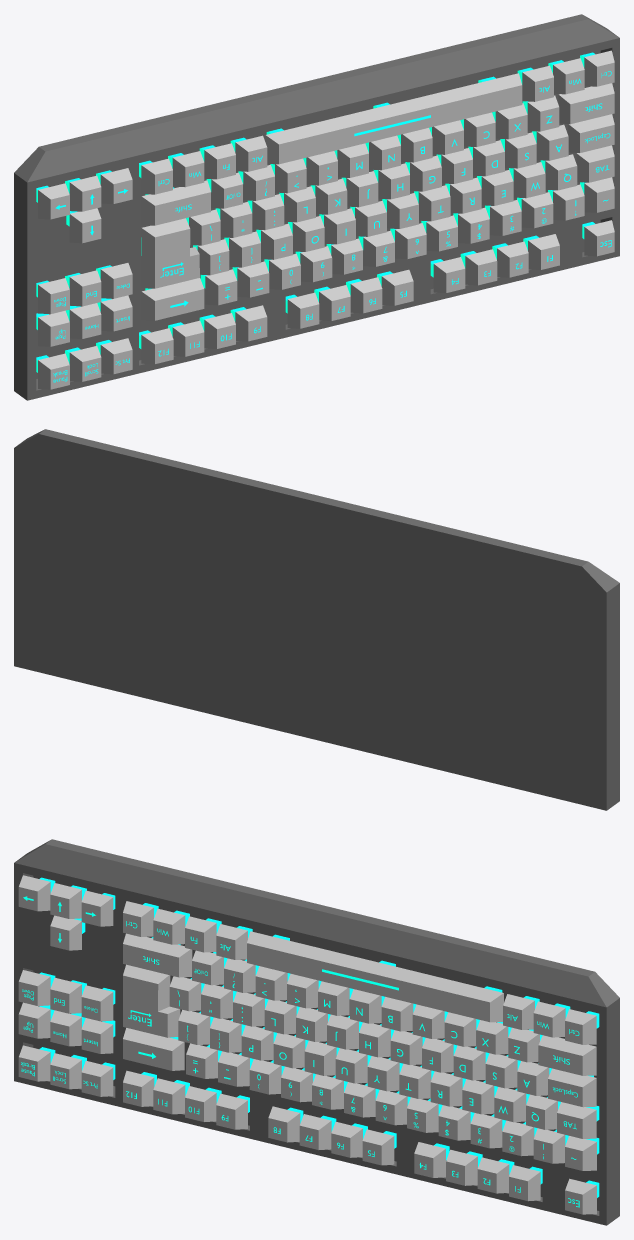
The model's file is keyboard.glb.
The picture shows the model from 3 angles, top to bottom: view 1: azimuth 30°, elevation 25°; view 2: azimuth 150°, elevation 25°; view 3: azimuth 330°, elevation 25°; orthographic projection.
Visible parts, largest first — view 1: KeyBoard; view 2: KeyBoard; view 3: KeyBoard.
Boxes of the visible parts, x1,y1,x2,y2 form: KeyBoard: [14, 14, 619, 400]; KeyBoard: [14, 429, 619, 810]; KeyBoard: [14, 839, 619, 1225].
Size of the model in its own units: 3.72 by 1.43 by 0.2473.
